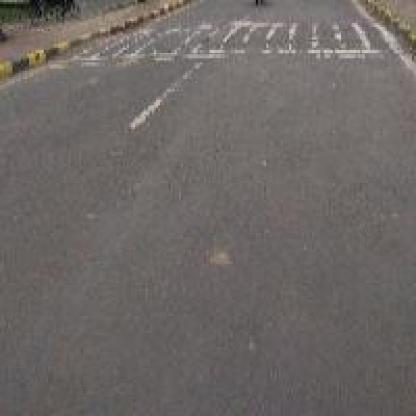Speed Bump: (44, 13, 395, 70)
